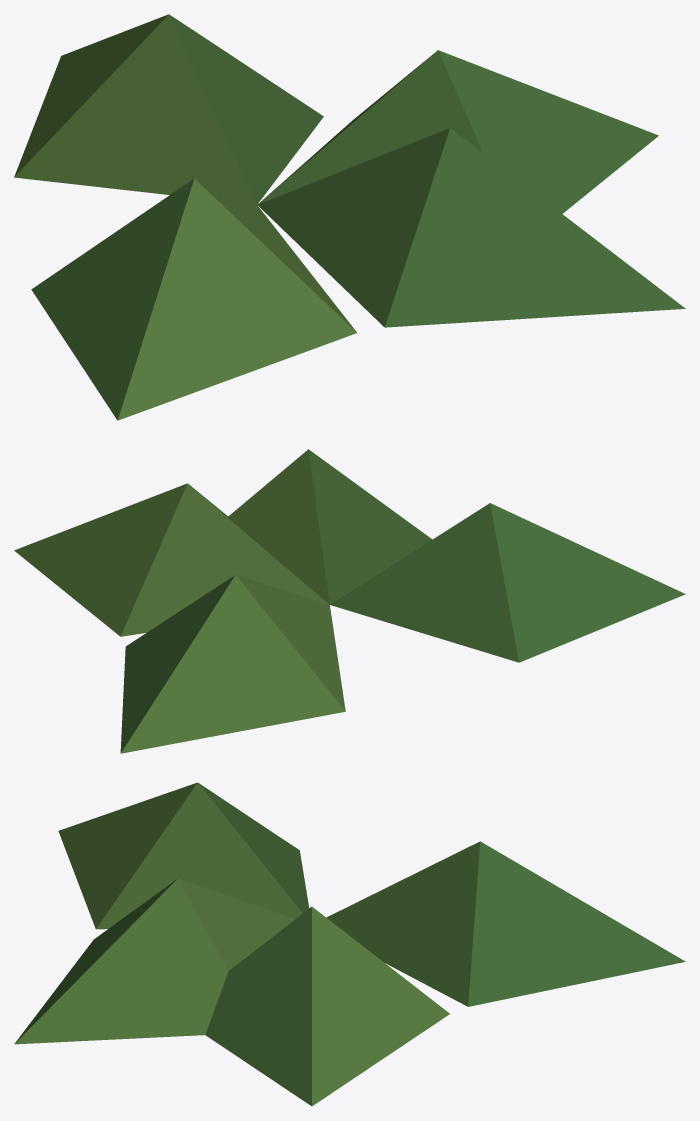
Rendered from jungle-seedling.glb.
The picture shows the model from 3 angles, top to bottom: view 1: azimuth 30°, elevation 25°; view 2: azimuth 150°, elevation 25°; view 3: azimuth 270°, elevation 25°; orthographic projection. The views are drawn at different scales.
Parts seen in each view (by area): view 1: Тропические ростки; view 2: Тропические ростки; view 3: Тропические ростки.
Boxes of the visible parts, x1=… form: Тропические ростки: x1=14, y1=14, x2=685, y2=420; Тропические ростки: x1=14, y1=449, x2=685, y2=753; Тропические ростки: x1=14, y1=782, x2=685, y2=1106.
Bounding box in the file's own units: 0.3301 × 0.063 × 0.3401.
